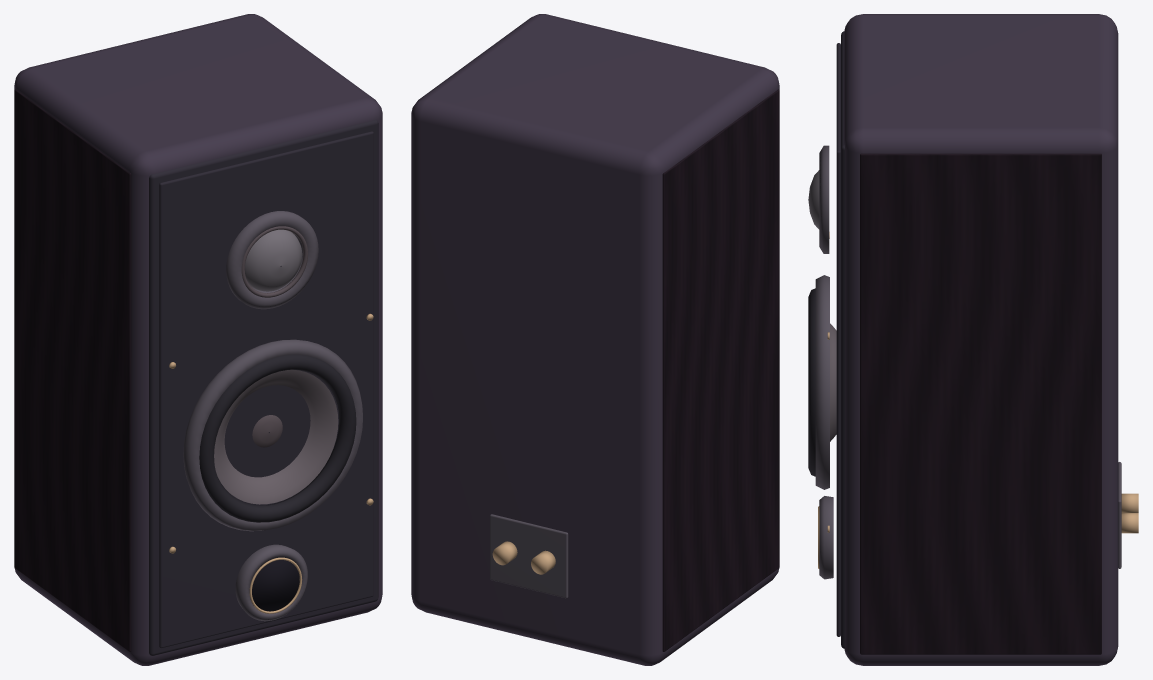
3 views of the same model, side by side, from view 1: azimuth 30°, elevation 25°; view 2: azimuth 150°, elevation 25°; view 3: azimuth 270°, elevation 25° (orthographic). The views are drawn at different scales.
Parts seen in each view (by area): view 1: C04_Batched_C04_Baffle_BlackVelvet, C04_Batched_C04_DeepPlumVeneer, C04_Cabinet_RoundedShell, C04_Batched_C04_DarkBrushedMetal, C04_Batched_C04_RubberFeet, C04_Woofer_Cone_DishedProfile, C04_Tweeter_Dome, C04_BassReflex_DarkOpening, C04_Batched_C04_Woofer_DustCap, C04_Batched_C04_ChampagneAccent; view 2: C04_Cabinet_RoundedShell, C04_Batched_C04_DeepPlumVeneer, C04_Batched_C04_DarkBrushedMetal, C04_Batched_C04_ChampagneAccent; view 3: C04_Batched_C04_DeepPlumVeneer, C04_Cabinet_RoundedShell, C04_Batched_C04_DarkBrushedMetal, C04_Batched_C04_Baffle_BlackVelvet, C04_Batched_C04_RubberFeet, C04_Batched_C04_ChampagneAccent, C04_Woofer_Cone_DishedProfile, C04_Tweeter_Dome.
Part boxes in pixels (box(x1,y1,x2,y2)): C04_Batched_C04_Baffle_BlackVelvet: box(149, 119, 378, 655); C04_Batched_C04_DeepPlumVeneer: box(14, 89, 131, 651); C04_Cabinet_RoundedShell: box(14, 14, 382, 665); C04_Batched_C04_DarkBrushedMetal: box(183, 211, 362, 621); C04_Batched_C04_RubberFeet: box(199, 354, 356, 522); C04_Woofer_Cone_DishedProfile: box(214, 369, 338, 504); C04_Tweeter_Dome: box(244, 229, 302, 291); C04_BassReflex_DarkOpening: box(250, 557, 299, 611); C04_Batched_C04_Woofer_DustCap: box(241, 226, 307, 447); C04_Batched_C04_ChampagneAccent: box(169, 313, 373, 613); C04_Cabinet_RoundedShell: box(411, 14, 779, 665); C04_Batched_C04_DeepPlumVeneer: box(662, 89, 779, 651); C04_Batched_C04_DarkBrushedMetal: box(490, 514, 568, 598); C04_Batched_C04_ChampagneAccent: box(492, 541, 555, 574); C04_Batched_C04_DeepPlumVeneer: box(860, 153, 1101, 654); C04_Cabinet_RoundedShell: box(844, 14, 1118, 665); C04_Batched_C04_DarkBrushedMetal: box(815, 145, 1121, 579); C04_Batched_C04_Baffle_BlackVelvet: box(836, 31, 844, 648); C04_Batched_C04_RubberFeet: box(808, 288, 815, 476); C04_Batched_C04_ChampagneAccent: box(818, 232, 1138, 568); C04_Woofer_Cone_DishedProfile: box(830, 323, 836, 441); C04_Tweeter_Dome: box(808, 170, 819, 229).
Bounding box in the file's own units: 0.424 × 0.82 × 0.457.
10 materials, 1 textured.
